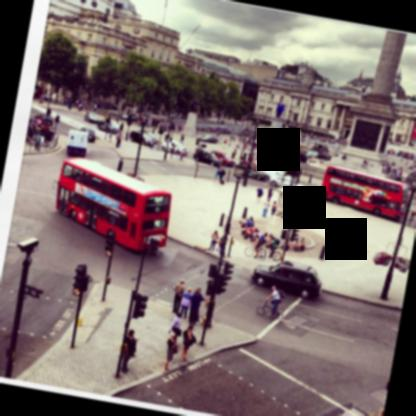backpack: (118, 342, 127, 356), (275, 289, 287, 299), (274, 239, 280, 245), (223, 171, 225, 174)
